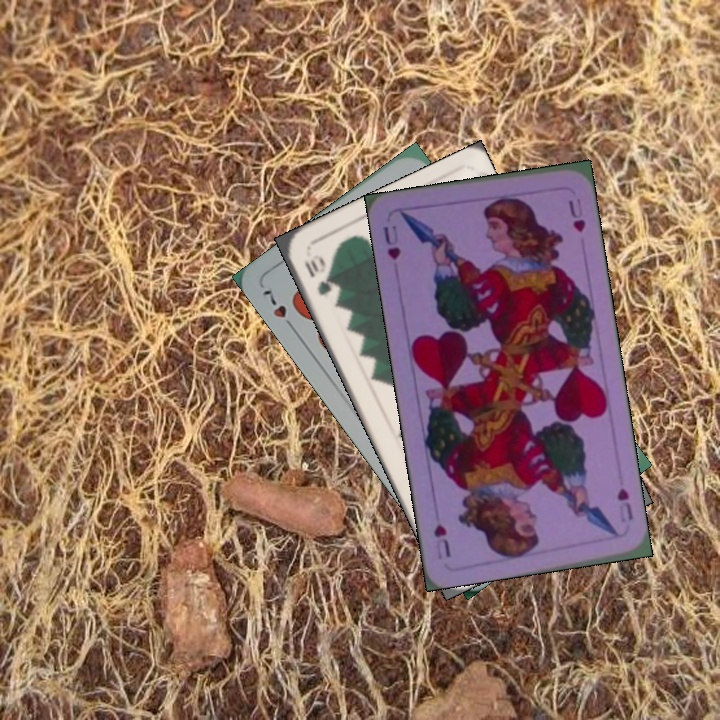G10: (300, 251, 335, 298)
H7: (258, 286, 299, 335)
HU: (379, 221, 403, 263), (613, 484, 636, 526)
